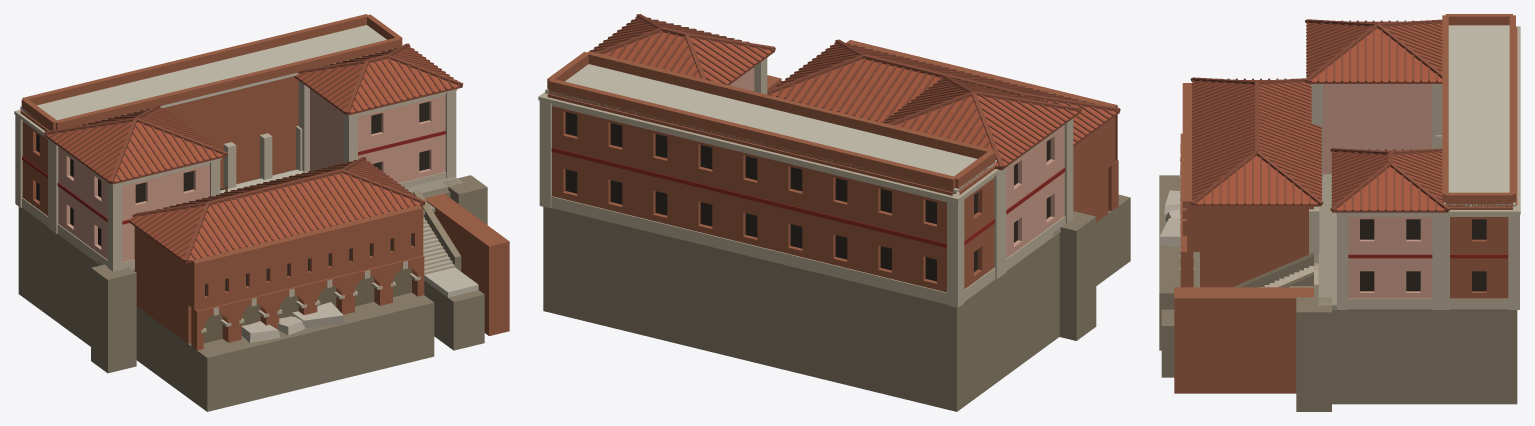
Rendered from rome_pal_block_d_low.glb.
3 views of the same model, side by side, from view 1: azimuth 30°, elevation 25°; view 2: azimuth 150°, elevation 25°; view 3: azimuth 270°, elevation 25° (orthographic). The views are drawn at different scales.
Visible parts, largest first — view 1: rome_pal_block_d_low; view 2: rome_pal_block_d_low; view 3: rome_pal_block_d_low.
Boxes of the visible parts, bbox=[...] form: rome_pal_block_d_low: bbox=[14, 14, 509, 411]; rome_pal_block_d_low: bbox=[538, 14, 1130, 411]; rome_pal_block_d_low: bbox=[1159, 14, 1520, 411].
Size of the model in its own units: 36.8 by 19.54 by 28.47.
